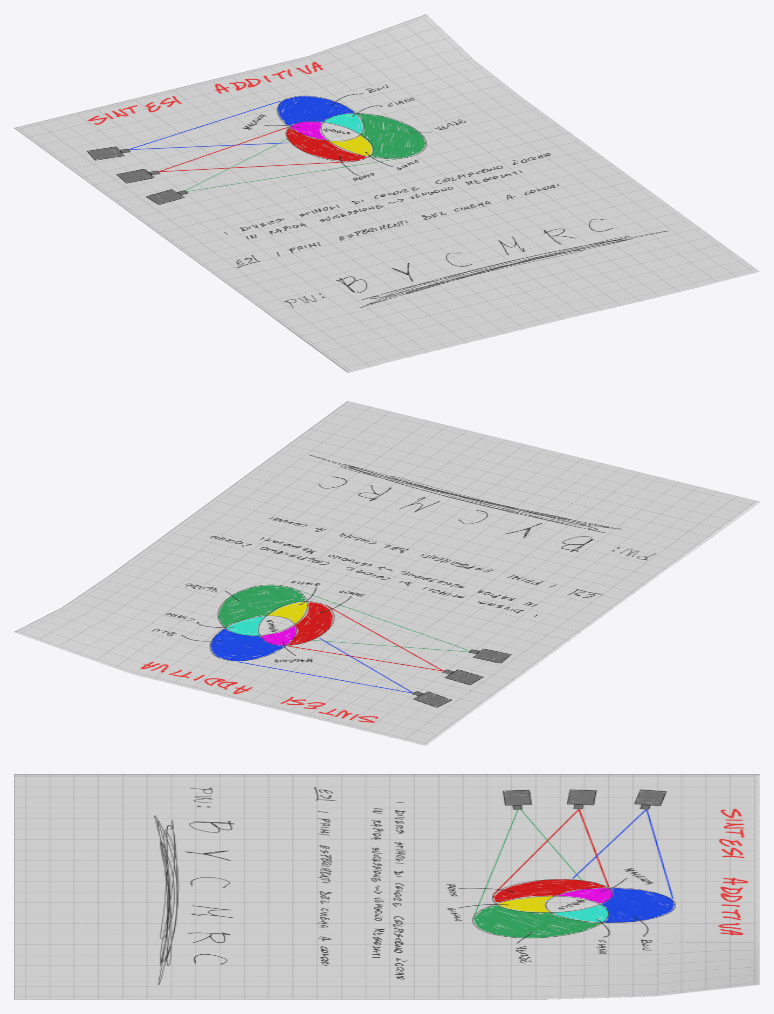
File: Pagina_schema.fbx
3 renders of one model, top to bottom at view 1: azimuth 30°, elevation 25°; view 2: azimuth 150°, elevation 25°; view 3: azimuth 270°, elevation 25°, orthographic. The views are drawn at different scales.
Visible parts, largest first — view 1: Plane.001; view 2: Plane.001; view 3: Plane.001.
Boxes of the visible parts, bbox=[...] form: Plane.001: bbox=[14, 14, 759, 372]; Plane.001: bbox=[14, 401, 759, 745]; Plane.001: bbox=[14, 774, 759, 999].
Bounding box in the file's own units: 48.44 × 1.53 × 67.88.
